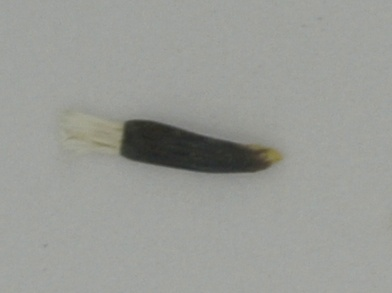เมล็ดดีติดกัน: (57, 106, 290, 179)
